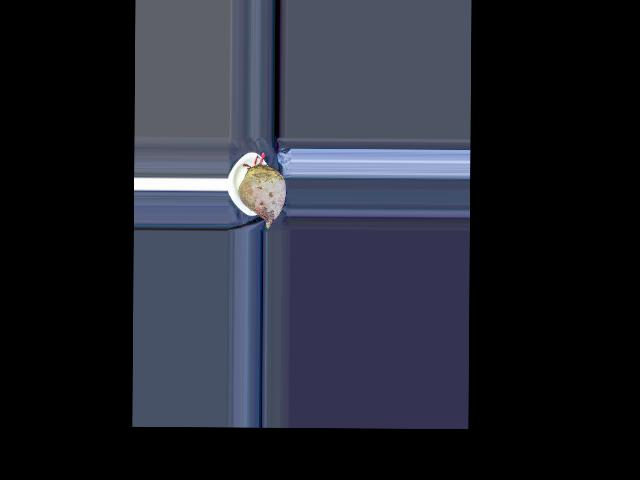beet: (238, 152, 285, 227)
